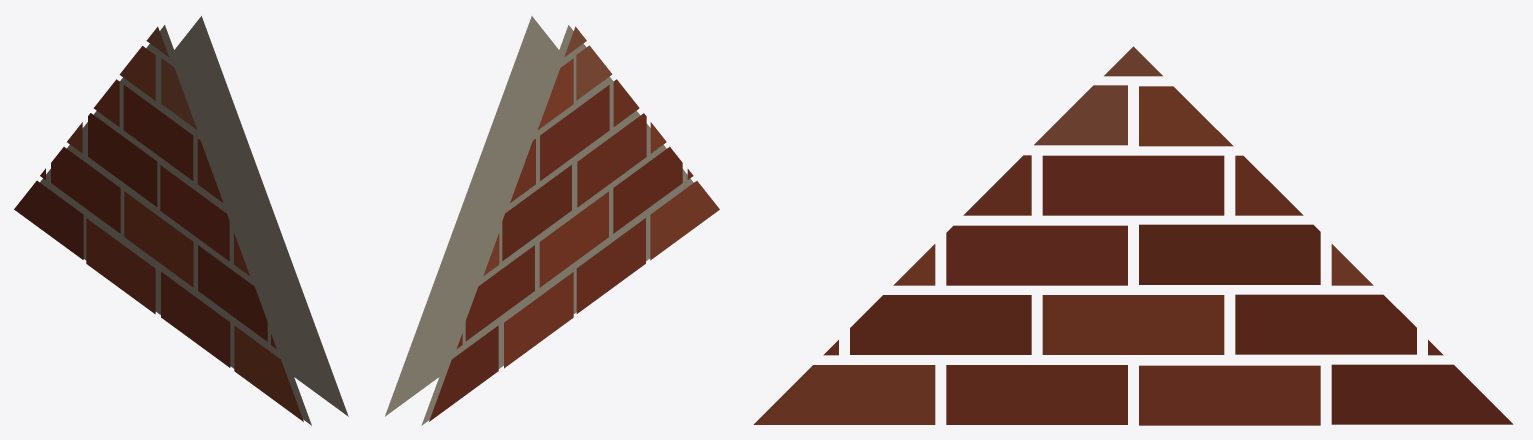
File: wall-brick-gable-peak-steep.glb
3 views of the same model, side by side, from view 1: azimuth 30°, elevation 25°; view 2: azimuth 150°, elevation 25°; view 3: azimuth 270°, elevation 25° (orthographic). The views are drawn at different scales.
Parts seen in each view (by area): view 1: wall-brick-gable-peak-steep; view 2: wall-brick-gable-peak-steep; view 3: wall-brick-gable-peak-steep.
Boxes of the visible parts, x1,y1,x2,y2 form: wall-brick-gable-peak-steep: [14, 16, 348, 425]; wall-brick-gable-peak-steep: [385, 16, 719, 425]; wall-brick-gable-peak-steep: [753, 46, 1513, 425].
Size of the model in its own units: 0.0999 by 0.55 by 1.
